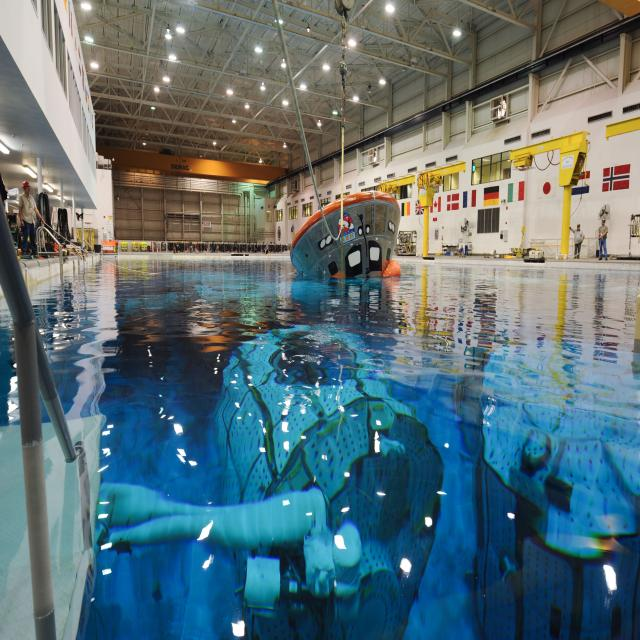Orion_capsule_mockup_(WEST)_located_on_far_end_of_pool: (290, 190, 401, 283)
